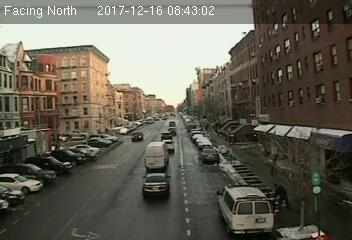car: (142, 172, 170, 199), (199, 149, 220, 163), (162, 139, 175, 153), (131, 131, 144, 142)
police: (215, 183, 275, 235)
truck: (144, 143, 169, 170)
